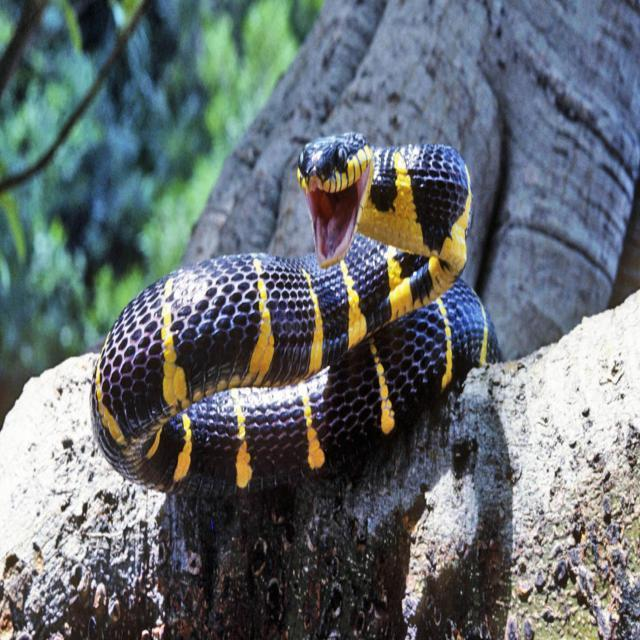Snake: (80, 90, 499, 538)
